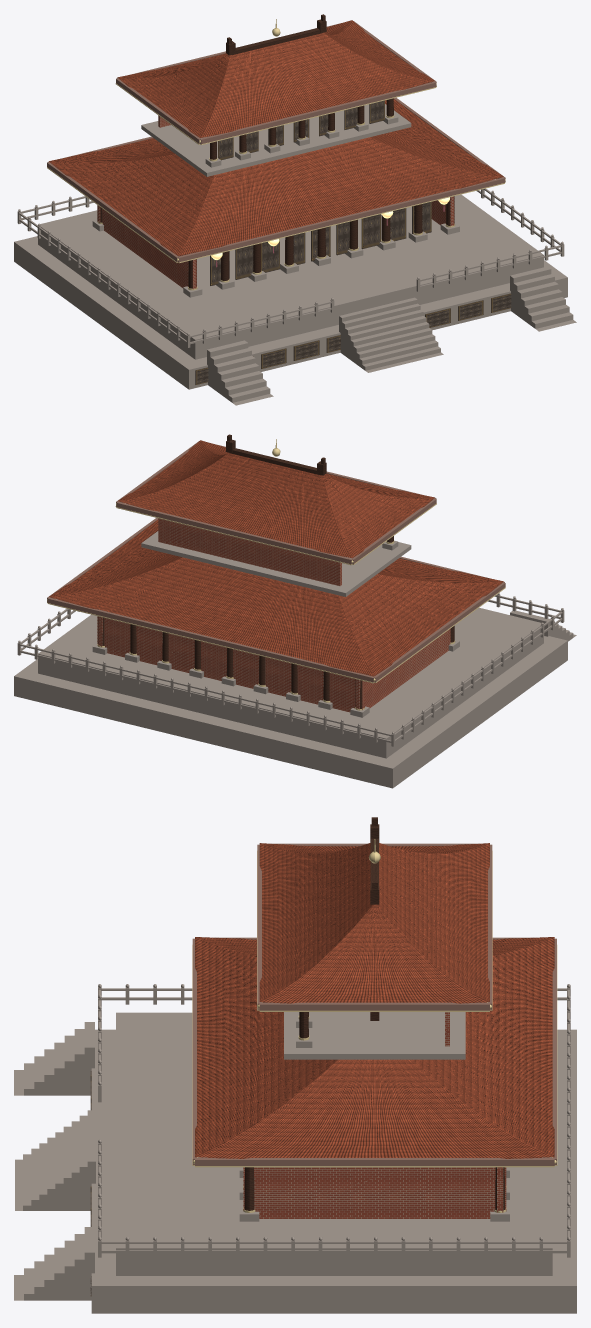
File: palace-placeholder.glb
3 views of the same model, one above another, from view 1: azimuth 30°, elevation 25°; view 2: azimuth 150°, elevation 25°; view 3: azimuth 270°, elevation 25° (orthographic). The views are drawn at different scales.
Parts seen in each view (by area): view 1: palace_placeholder; view 2: palace_placeholder; view 3: palace_placeholder.
Boxes of the visible parts, <box> form: palace_placeholder: <box>14,14,576,405</box>; palace_placeholder: <box>14,434,576,788</box>; palace_placeholder: <box>14,817,576,1313</box>.
Bounding box in the file's own units: 30 × 18.9 × 27.85.
Materials: 9 (4 with a texture image).
